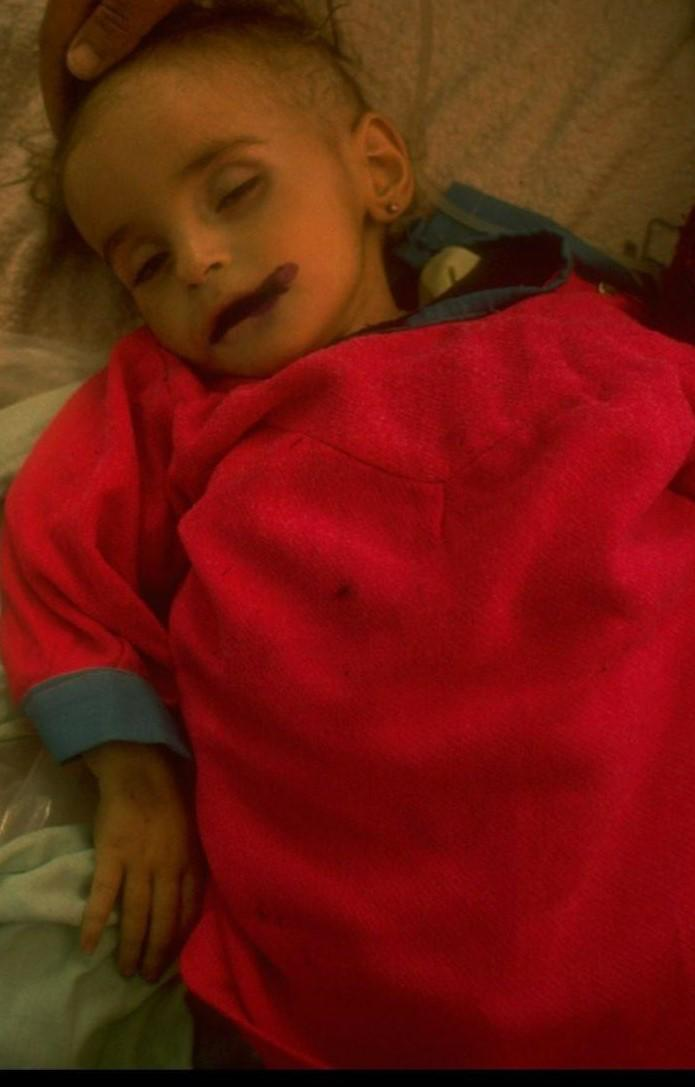Stunting: (0, 50, 412, 405)
